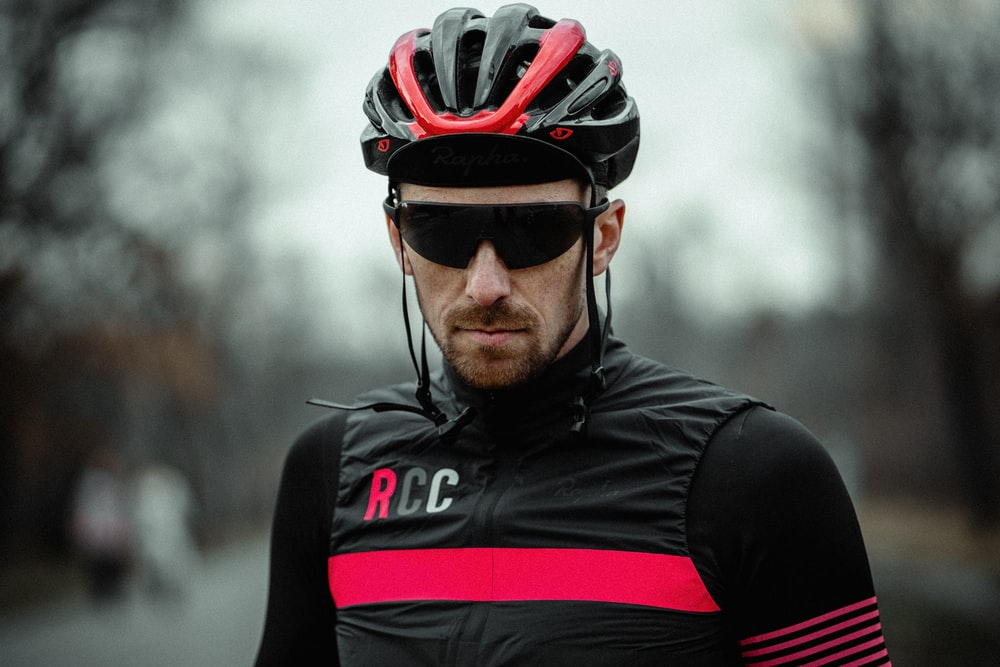helmet: (360, 4, 641, 386)
